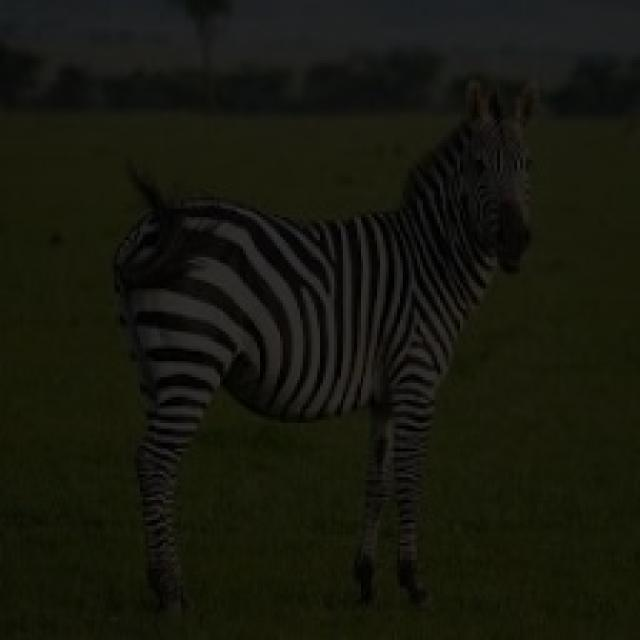animal: (108, 108, 563, 616)
